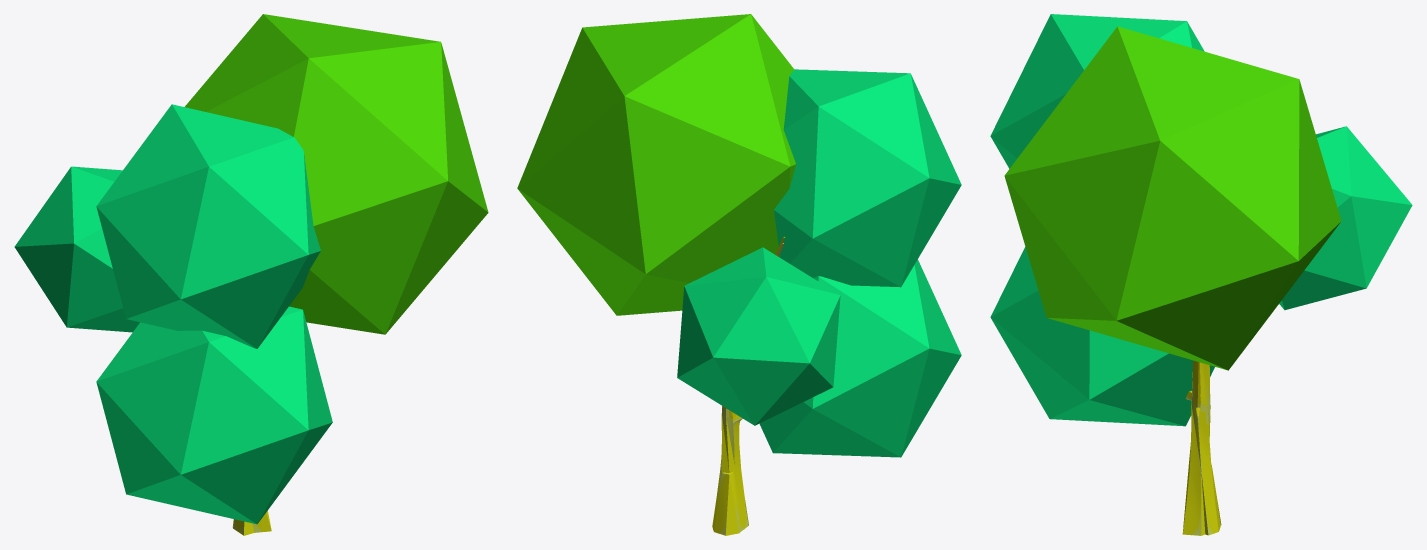
Rendered from tree1.fbx.
3 renders of one model, left to right at view 1: azimuth 30°, elevation 25°; view 2: azimuth 150°, elevation 25°; view 3: azimuth 270°, elevation 25°, orthographic. The views are drawn at different scales.
Parts seen in each view (by area): view 1: pPlatonic8, pPlatonic7, pPlatonic9, pPlatonic6; view 2: pPlatonic8, pPlatonic7, pPlatonic9, pPlatonic6, branch2, branch; view 3: pPlatonic8, pPlatonic9, pPlatonic6, pPlatonic7, branch2, branch.
Part boxes in pixels (x1,y1,x2,y2): pPlatonic8: [185, 14, 488, 334]; pPlatonic7: [96, 104, 320, 348]; pPlatonic9: [96, 306, 332, 524]; pPlatonic6: [14, 166, 139, 332]; pPlatonic8: [517, 14, 795, 315]; pPlatonic7: [774, 69, 961, 287]; pPlatonic9: [759, 259, 961, 457]; pPlatonic6: [677, 247, 840, 425]; branch2: [712, 237, 784, 535]; branch: [712, 243, 783, 535]; pPlatonic8: [1004, 26, 1341, 370]; pPlatonic9: [990, 247, 1214, 426]; pPlatonic6: [1279, 126, 1412, 310]; pPlatonic7: [990, 14, 1204, 168]; branch2: [1182, 360, 1221, 535]; branch: [1185, 378, 1220, 535].
Bounding box in the file's own units: 1033 × 1295 × 969.
